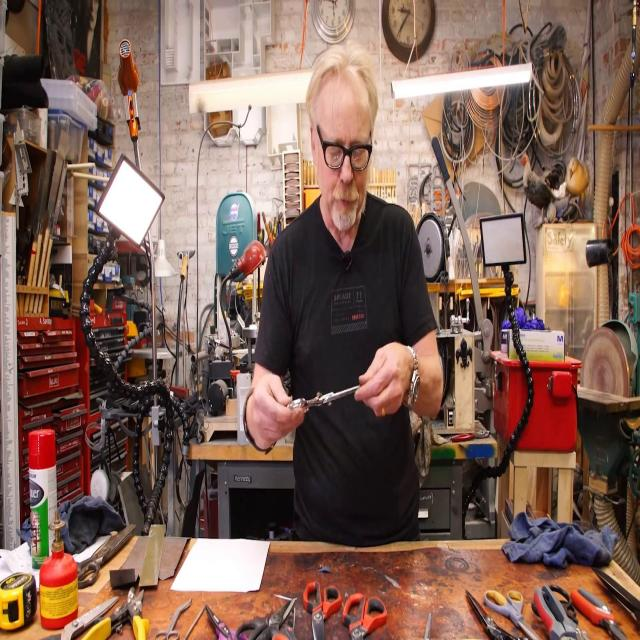scissor: (76, 525, 135, 588), (467, 589, 529, 640), (484, 589, 541, 640), (236, 597, 300, 640), (302, 582, 342, 640), (342, 593, 388, 640), (287, 386, 362, 414), (206, 605, 249, 640), (155, 599, 191, 640), (272, 607, 298, 640)
